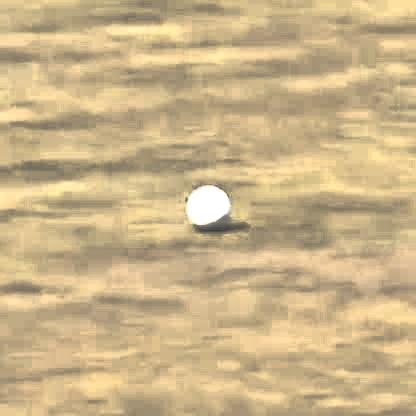golfball: (184, 181, 229, 229)
